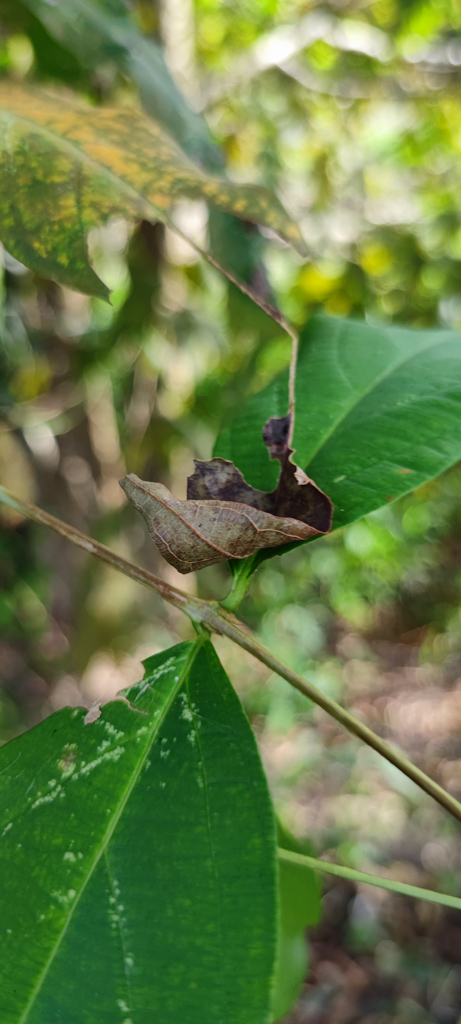Pepper yellow leaf: (2, 70, 321, 322)
